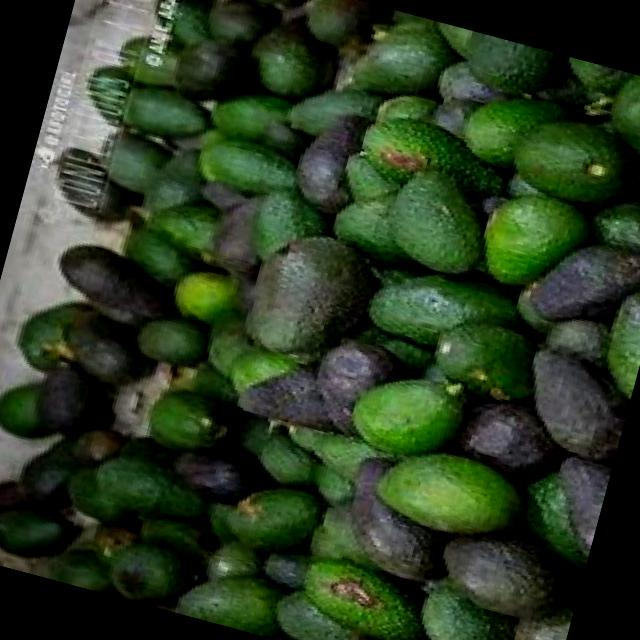avocado: (236, 214, 382, 372), (376, 432, 528, 544), (431, 514, 579, 624), (507, 339, 637, 464), (508, 97, 640, 209), (474, 174, 584, 304), (381, 158, 497, 281), (48, 230, 187, 330), (351, 354, 476, 465), (293, 548, 437, 640), (190, 118, 311, 209)
